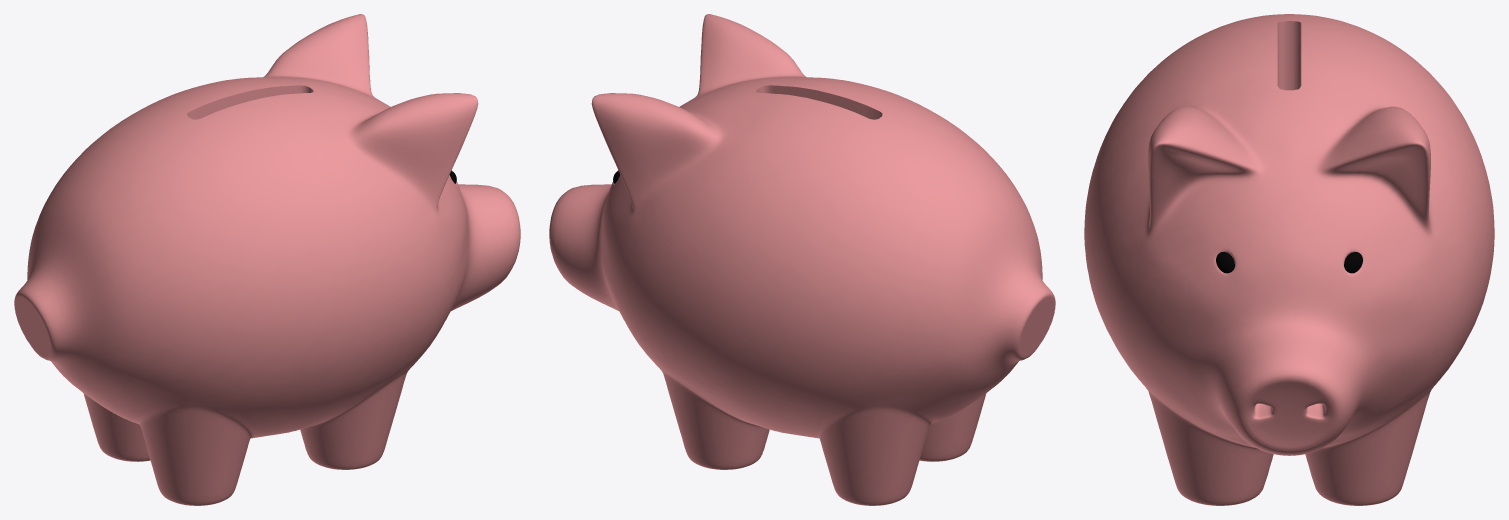
The model's file is piggy_bank-transformed.glb.
3 renders of one model, left to right at view 1: azimuth 30°, elevation 25°; view 2: azimuth 150°, elevation 25°; view 3: azimuth 270°, elevation 25°, orthographic. The views are drawn at different scales.
Visible parts, largest first — view 1: Pig_body_0; view 2: Pig_body_0; view 3: Pig_body_0, Sphere_2.
Boxes of the visible parts, x1,y1,x2,y2 form: Pig_body_0: (14, 14, 520, 505); Pig_body_0: (549, 14, 1055, 505); Pig_body_0: (1084, 14, 1494, 505); Sphere_2: (1216, 252, 1362, 273).
Size of the model in its own units: 5.47 by 3.87 by 3.52.
